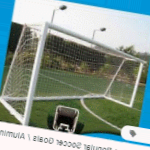goals: (2, 21, 146, 124)
